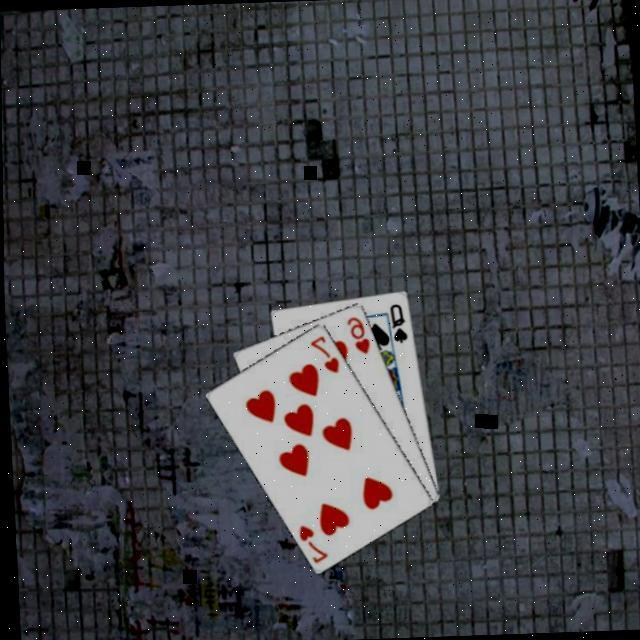6H: (341, 314, 371, 359)
7H: (292, 522, 328, 568), (304, 332, 339, 378)
QS: (384, 301, 409, 347)
